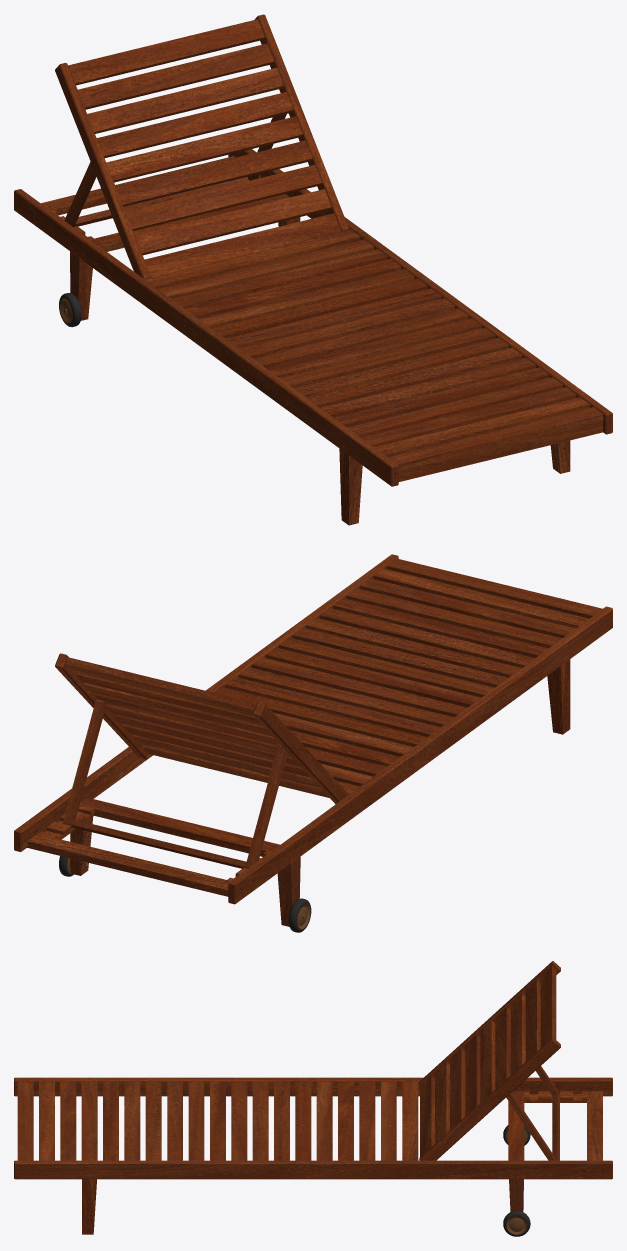
File: Chair1.obj
3 views of the same model, one above another, from view 1: azimuth 30°, elevation 25°; view 2: azimuth 150°, elevation 25°; view 3: azimuth 270°, elevation 25° (orthographic). The views are drawn at different scales.
Parts seen in each view (by area): view 1: Cube.008_chair2_0, Cube.009_chair2_0, Cube.007_chair2_0, Cube.010_chair2_0, Cube.011_chair2_0, Cube.014_chair2_0, Cube.018_chair2_0, Cube.015_chair2_0, Cube.016_chair2_0, Cube.012_chair2_0; view 2: Cube.008_chair2_0, Cube.007_chair2_0, Cube.009_chair2_0, Cube.018_chair2_0, Cube.010_chair2_0, Cube.012_chair2_0, Cube.015_chair2_0, Cube.016_chair2_0, Cube.014_chair2_0, Cylinder.001_chair2_0, Cube.017_chair2_0; view 3: Cube.008_chair2_0, Cube.007_chair2_0, Cube.009_chair2_0, Cube.010_chair2_0, Cube.018_chair2_0, Cube.012_chair2_0, Cube.015_chair2_0, Cylinder.001_chair2_0, Cube.014_chair2_0, Cube.017_chair2_0, Cube.016_chair2_0.
Boxes of the visible parts, x1=… form: Cube.008_chair2_0: x1=145, y1=229, x2=603, y2=470; Cube.009_chair2_0: x1=68, y1=19, x2=341, y2=277; Cube.007_chair2_0: x1=14, y1=149, x2=612, y2=486; Cube.010_chair2_0: x1=55, y1=14, x2=348, y2=279; Cube.011_chair2_0: x1=398, y1=421, x2=602, y2=481; Cube.014_chair2_0: x1=339, y1=440, x2=570, y2=525; Cube.018_chair2_0: x1=64, y1=114, x2=286, y2=226; Cube.015_chair2_0: x1=90, y1=194, x2=289, y2=251; Cube.016_chair2_0: x1=70, y1=217, x2=300, y2=320; Cube.012_chair2_0: x1=41, y1=156, x2=235, y2=215; Cube.008_chair2_0: x1=214, y1=558, x2=602, y2=794; Cube.007_chair2_0: x1=14, y1=554, x2=612, y2=904; Cube.009_chair2_0: x1=65, y1=657, x2=329, y2=797; Cube.018_chair2_0: x1=63, y1=699, x2=287, y2=868; Cube.010_chair2_0: x1=55, y1=653, x2=348, y2=804; Cube.012_chair2_0: x1=27, y1=834, x2=230, y2=896; Cube.015_chair2_0: x1=79, y1=797, x2=279, y2=856; Cube.016_chair2_0: x1=70, y1=817, x2=300, y2=926; Cube.014_chair2_0: x1=547, y1=659, x2=570, y2=734; Cylinder.001_chair2_0: x1=59, y1=856, x2=311, y2=932; Cube.017_chair2_0: x1=38, y1=805, x2=269, y2=880; Cube.008_chair2_0: x1=17, y1=1081, x2=418, y2=1160; Cube.007_chair2_0: x1=14, y1=1077, x2=612, y2=1179; Cube.009_chair2_0: x1=420, y1=966, x2=556, y2=1157; Cube.010_chair2_0: x1=419, y1=961, x2=560, y2=1160; Cube.018_chair2_0: x1=506, y1=1066, x2=559, y2=1160; Cube.012_chair2_0: x1=587, y1=1091, x2=602, y2=1160; Cube.015_chair2_0: x1=508, y1=1091, x2=524, y2=1160; Cylinder.001_chair2_0: x1=503, y1=1125, x2=530, y2=1236; Cube.014_chair2_0: x1=82, y1=1179, x2=96, y2=1234; Cube.017_chair2_0: x1=524, y1=1091, x2=586, y2=1102; Cube.016_chair2_0: x1=509, y1=1179, x2=523, y2=1211.
Size of the model in its own units: 1.02 by 0.9844 by 2.79.
1 material, 1 textured.
